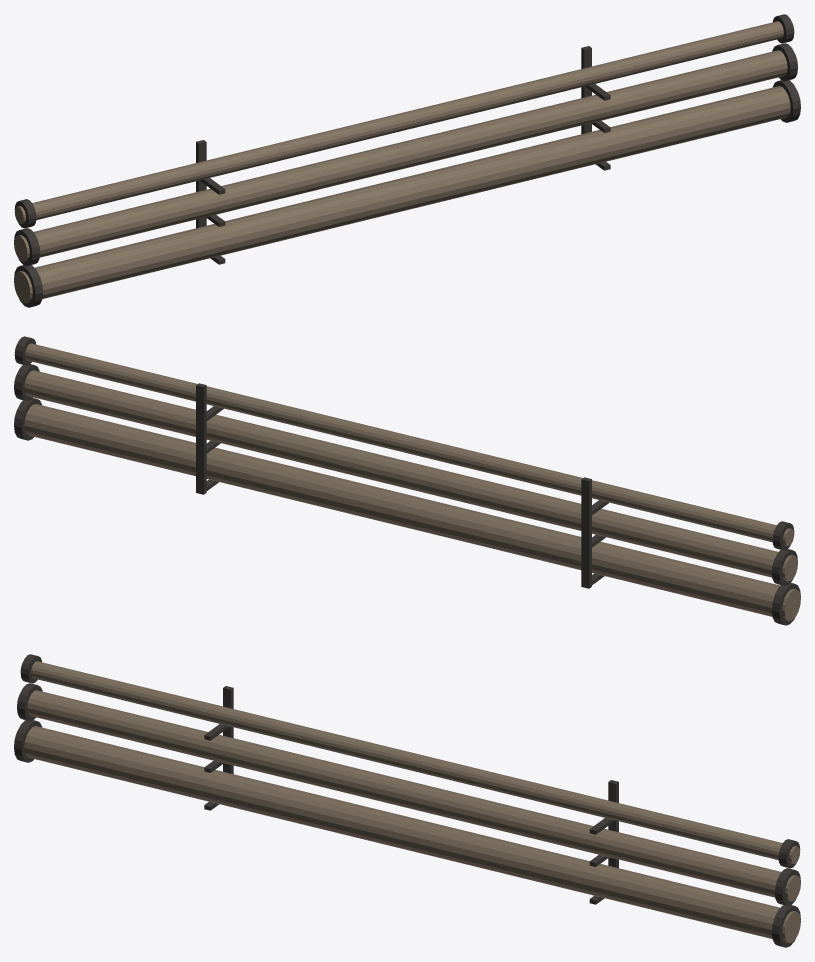
Rendered from b1_pipe.glb.
3 views of the same model, one above another, from view 1: azimuth 30°, elevation 25°; view 2: azimuth 150°, elevation 25°; view 3: azimuth 330°, elevation 25° (orthographic).
Parts seen in each view (by area): view 1: b1_pipe; view 2: b1_pipe; view 3: b1_pipe.
Part boxes in pixels (left/top/right/bottom): b1_pipe: left=14, top=14, right=800, bottom=307; b1_pipe: left=14, top=336, right=800, bottom=625; b1_pipe: left=14, top=654, right=800, bottom=947.
Bounding box in the file's own units: 6 × 0.805 × 0.345.
